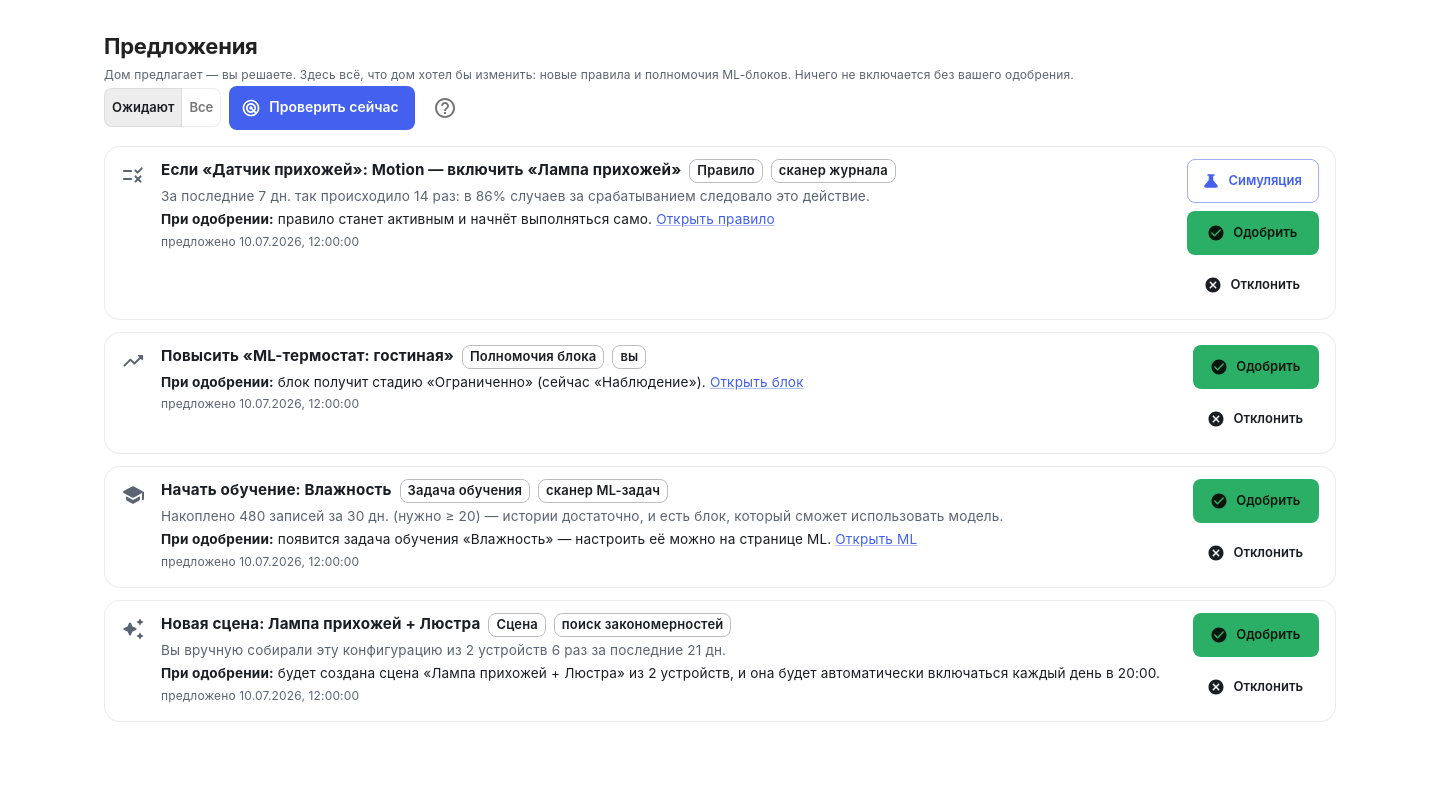
Scenario: Proposals page › "Check now" runs all three scanners and reports a combined result
Expected: the text "сканер журнала" is shown, top-left (772, 161), bottom-right (895, 180)
Click the button "Проверить сейчас": point(322, 108) top-left (229, 86), bottom-right (415, 130)
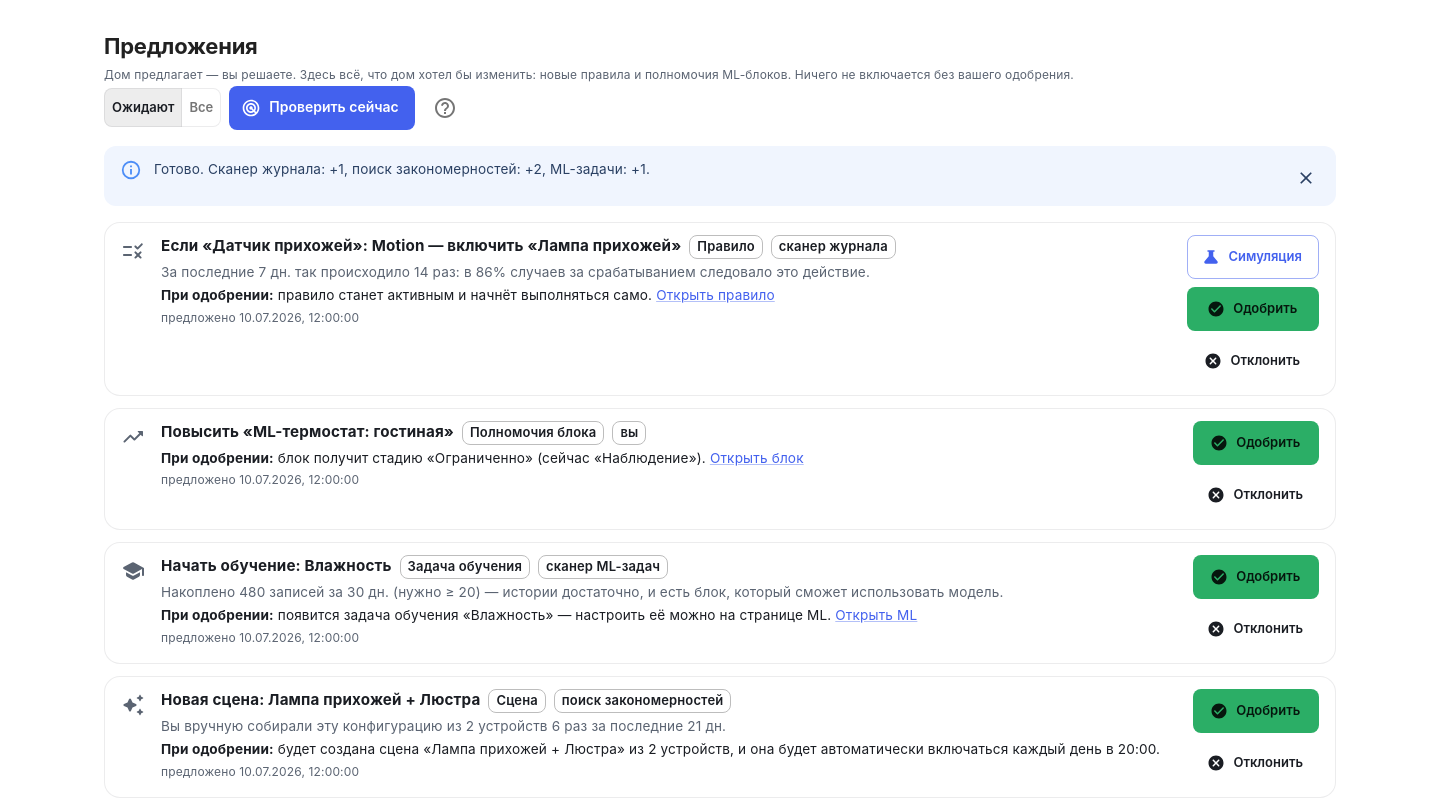
Expected: the text "Сканер журнала: +1, поиск закономерностей: +2, ML-задачи: +1" is shown, top-left (154, 161), bottom-right (650, 177)
